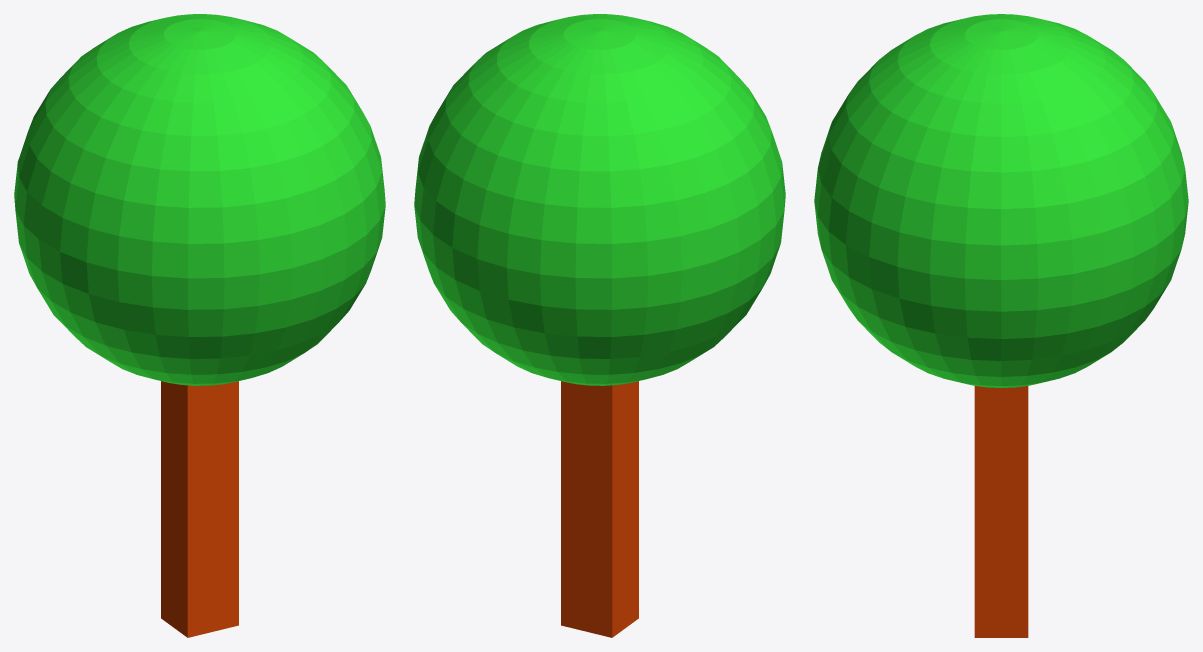
File: basicTree.glb
The picture shows the model from 3 angles, left to right: view 1: azimuth 30°, elevation 25°; view 2: azimuth 150°, elevation 25°; view 3: azimuth 270°, elevation 25°; orthographic projection.
Visible parts, largest first — view 1: Sphere, Cube; view 2: Sphere, Cube; view 3: Sphere, Cube.
Boxes of the visible parts, left/top/right/bottom form: Sphere: left=14, top=14, right=385, bottom=385; Cube: left=161, top=381, right=238, bottom=637; Sphere: left=414, top=14, right=785, bottom=385; Cube: left=561, top=381, right=638, bottom=637; Sphere: left=814, top=14, right=1188, bottom=387; Cube: left=974, top=386, right=1028, bottom=637.
Size of the model in its own units: 6.73 by 11.78 by 6.73.
